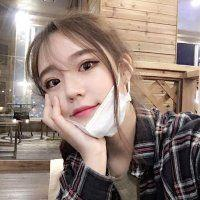WRONG: (37, 48, 128, 139)
